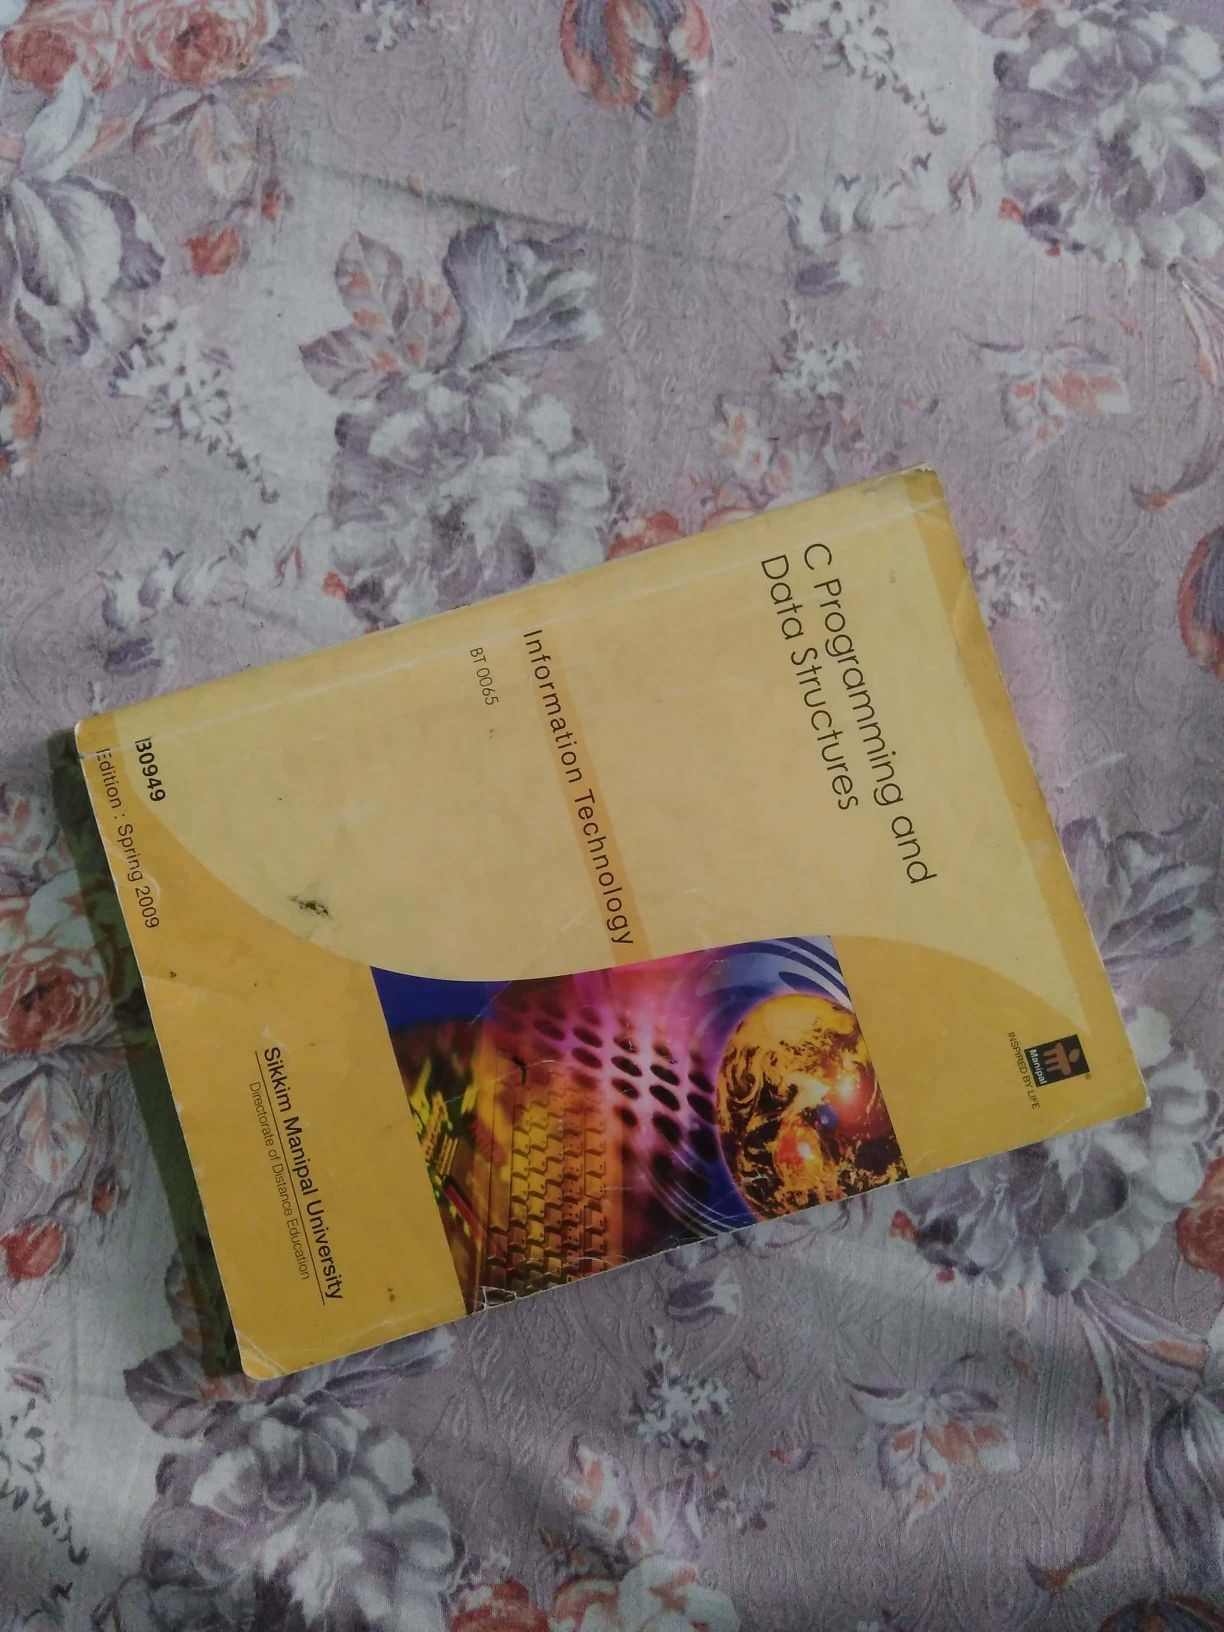clang: (161, 558, 1124, 1376)
